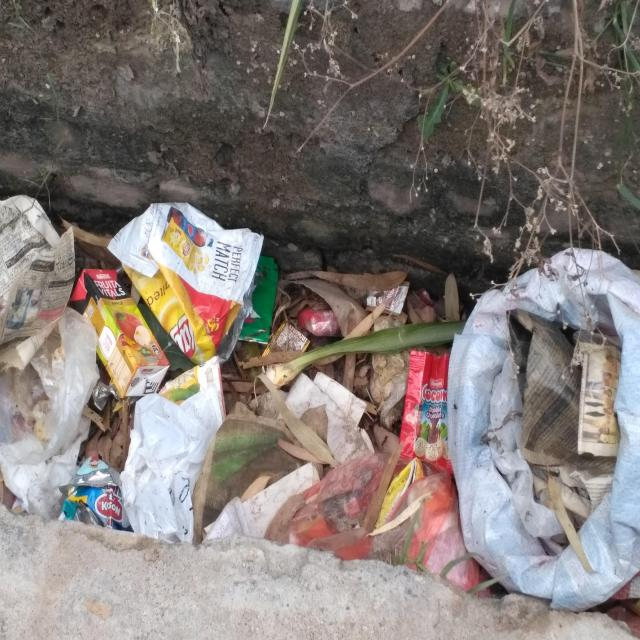litter: (446, 246, 639, 610), (104, 201, 261, 366), (517, 308, 622, 518), (338, 473, 496, 596), (116, 384, 221, 546), (1, 351, 100, 518), (190, 413, 315, 544), (66, 267, 167, 398), (262, 453, 393, 554), (284, 375, 367, 465), (19, 192, 70, 335), (395, 350, 451, 473), (236, 465, 321, 538), (53, 455, 132, 528), (239, 255, 278, 342), (157, 363, 223, 413), (310, 370, 366, 428), (259, 321, 308, 378), (202, 496, 249, 544), (366, 281, 412, 314), (299, 309, 337, 337), (89, 378, 121, 410)
